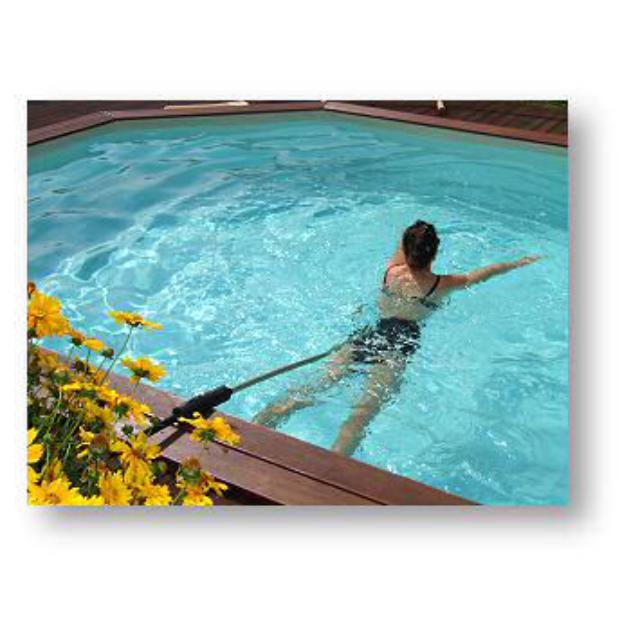human: (251, 221, 548, 449)
